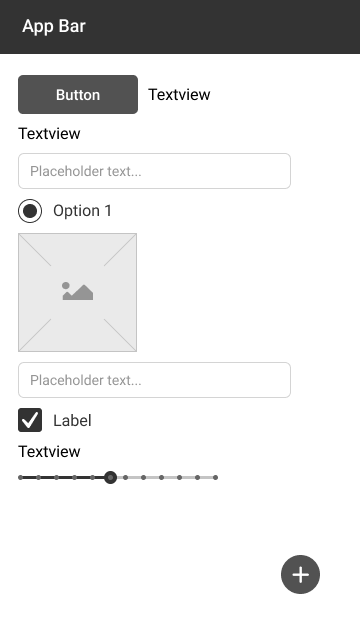button: (17, 74, 139, 115)
checkBox: (16, 406, 93, 432)
editText: (18, 151, 293, 191), (17, 360, 292, 400)
floatingButton: (278, 553, 322, 596)
imageView: (15, 230, 140, 354)
radioButton: (16, 197, 114, 224)
slider: (14, 469, 223, 485)
textView: (18, 125, 82, 144), (146, 86, 212, 104), (18, 442, 82, 460)
toolbar: (1, 1, 360, 53)
